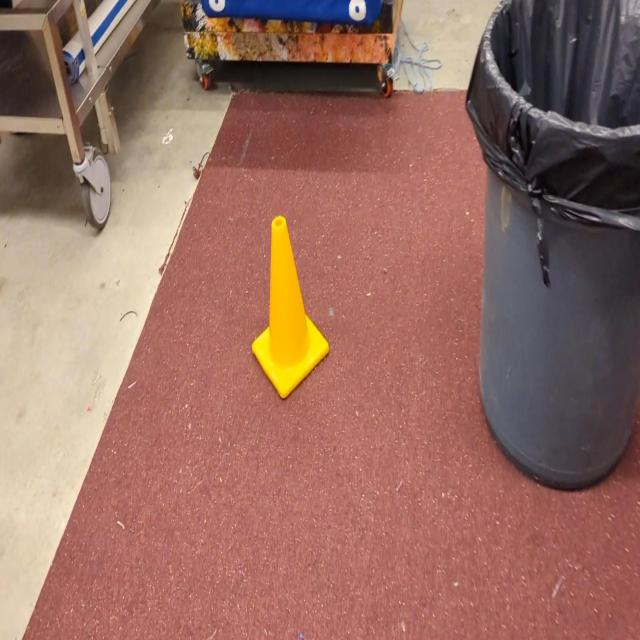frc_cone: (251, 216, 329, 402)
